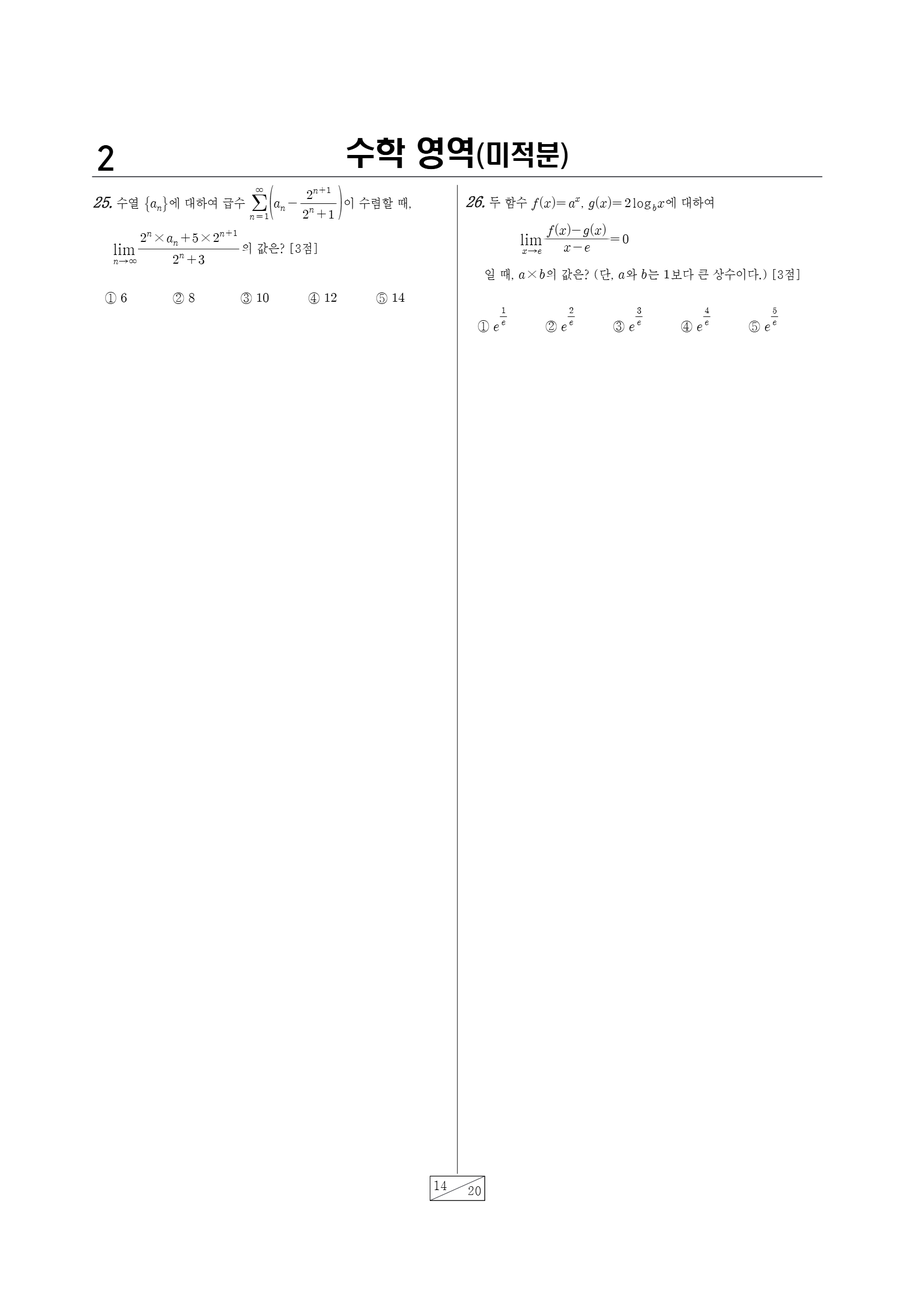opt_1: (104, 290, 117, 304), (477, 320, 490, 332)
opt_2: (172, 291, 184, 304), (546, 319, 556, 332)
opt_3: (240, 291, 252, 304), (613, 319, 624, 333)
opt_4: (680, 320, 693, 332), (308, 292, 319, 304)
opt_5: (749, 319, 760, 333), (375, 292, 387, 304)
